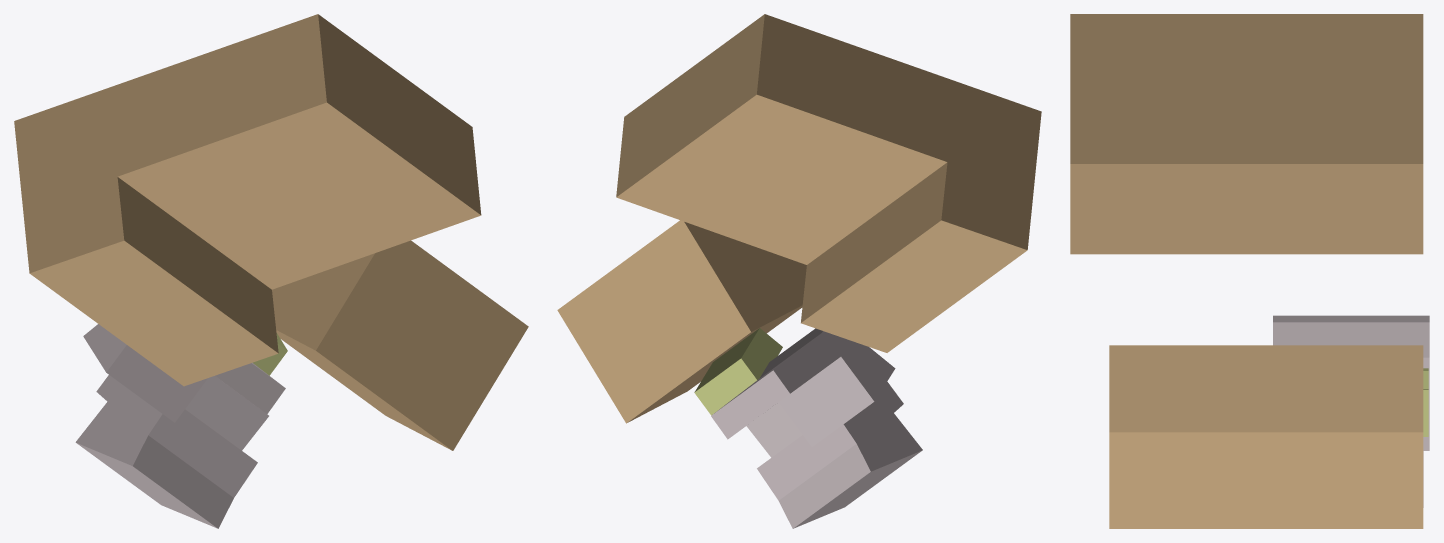
3 views of the same model, side by side, from view 1: azimuth 30°, elevation 25°; view 2: azimuth 150°, elevation 25°; view 3: azimuth 270°, elevation 25° (orthographic). The views are drawn at different scales.
Visible parts, largest first — view 1: 0_1_3_2_2_1_2_0_2; view 2: 0_1_3_2_2_1_2_0_2; view 3: 0_1_3_2_2_1_2_0_2.
Part boxes in pixels (x1,y1,x2,y2): 0_1_3_2_2_1_2_0_2: (14,14,528,528); 0_1_3_2_2_1_2_0_2: (557,14,1041,528); 0_1_3_2_2_1_2_0_2: (1070,14,1429,528).
Bounding box in the file's own units: 38.11 × 39.28 × 27.5.
